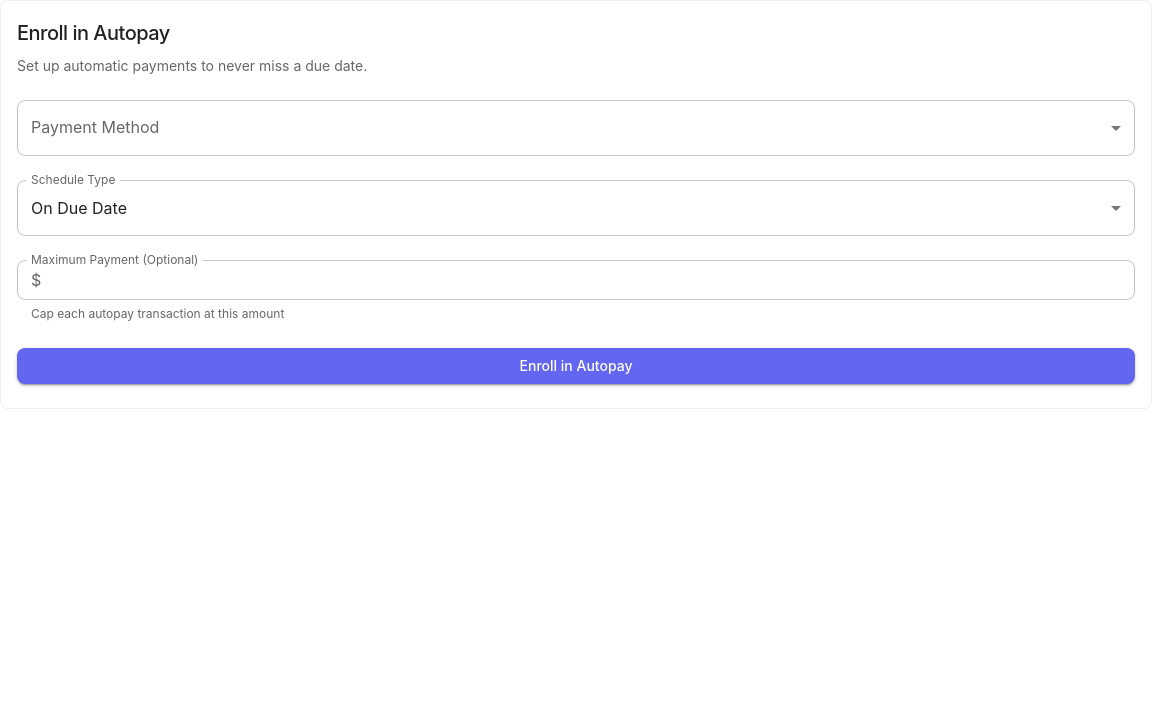
it: AutopayEnrollment › schedule type selection › shows day of month field when day_of_month is selected
# Click on schedule type dropdown
Click the dropdown named "schedule type" at (79, 208), box left=31, top=198, right=127, bottom=218
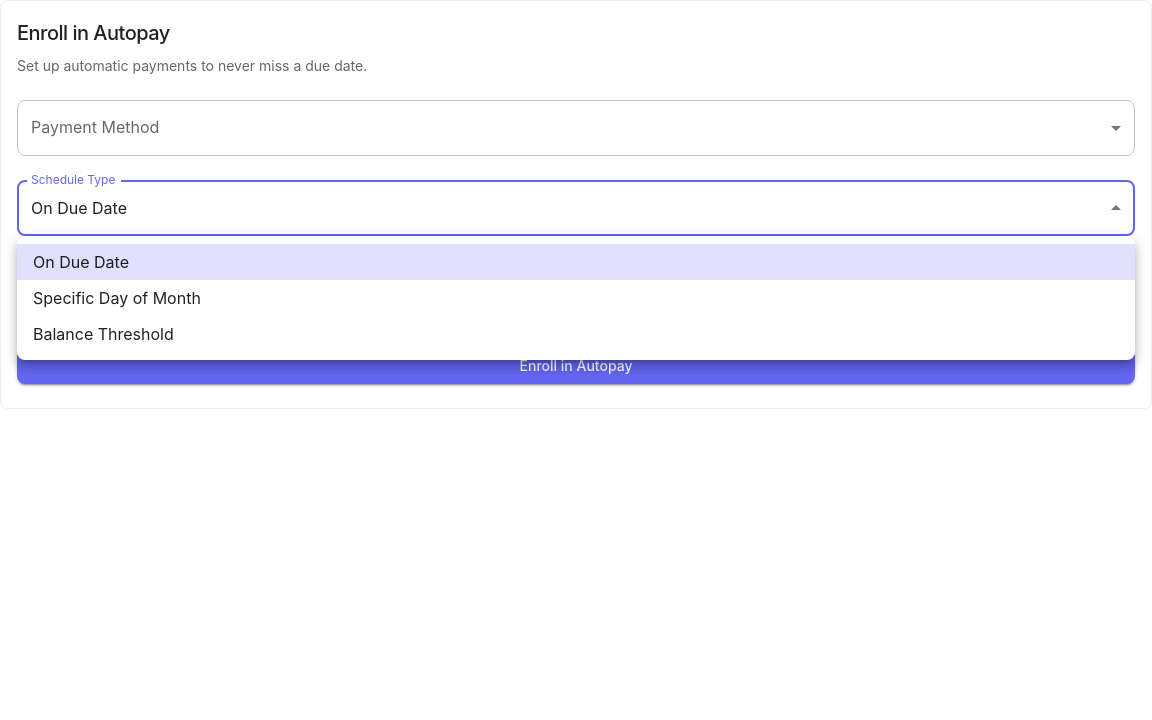
Click the option "Specific Day of Month" at (117, 298), box left=33, top=288, right=201, bottom=308
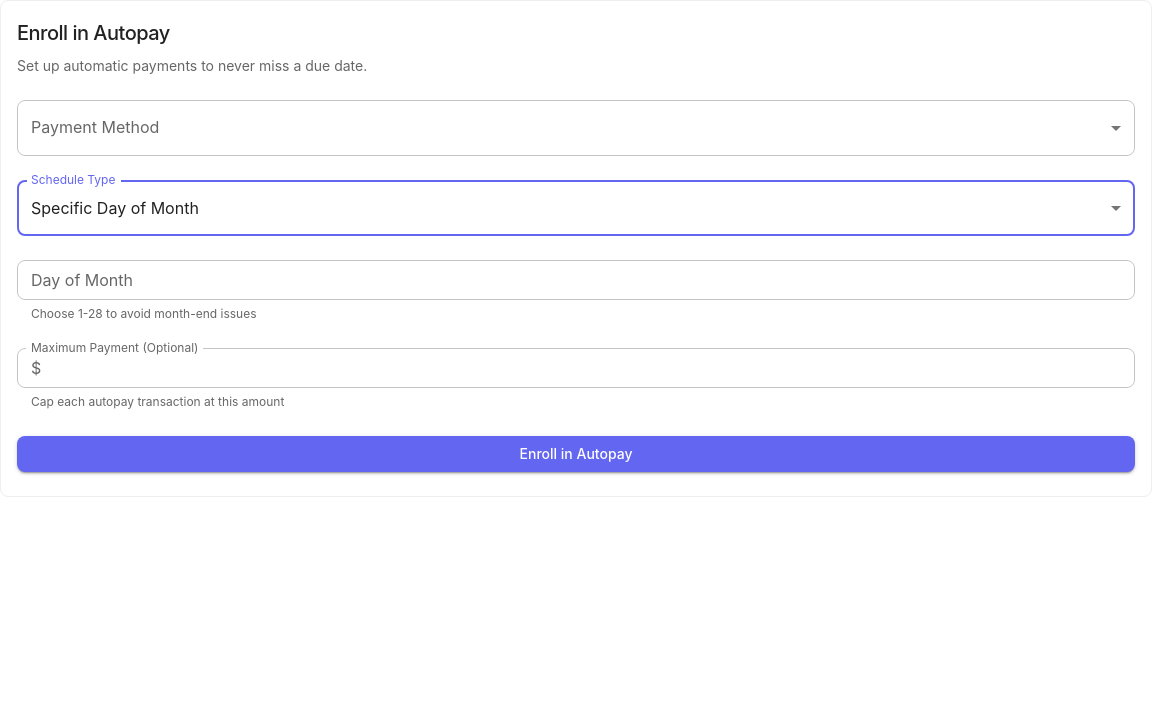
expect the number field labelled "Day of Month" is shown: met, box left=17, top=260, right=1135, bottom=300
